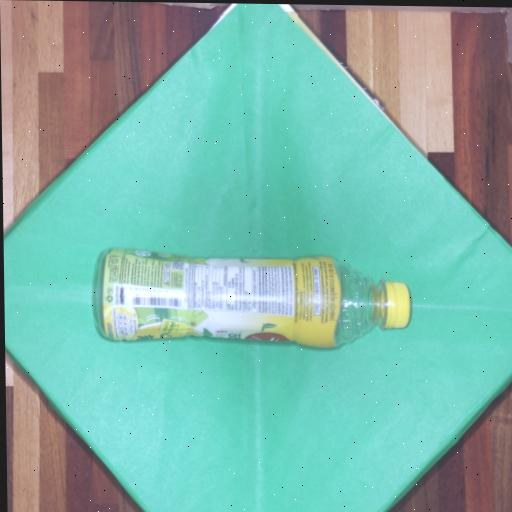bottle: (80, 226, 425, 361)
